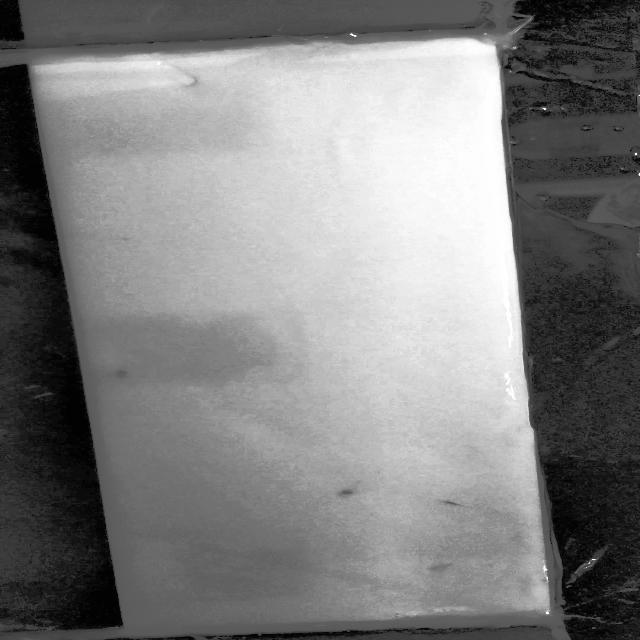shrimp: (438, 496, 473, 518), (107, 362, 146, 381), (333, 485, 370, 505)
